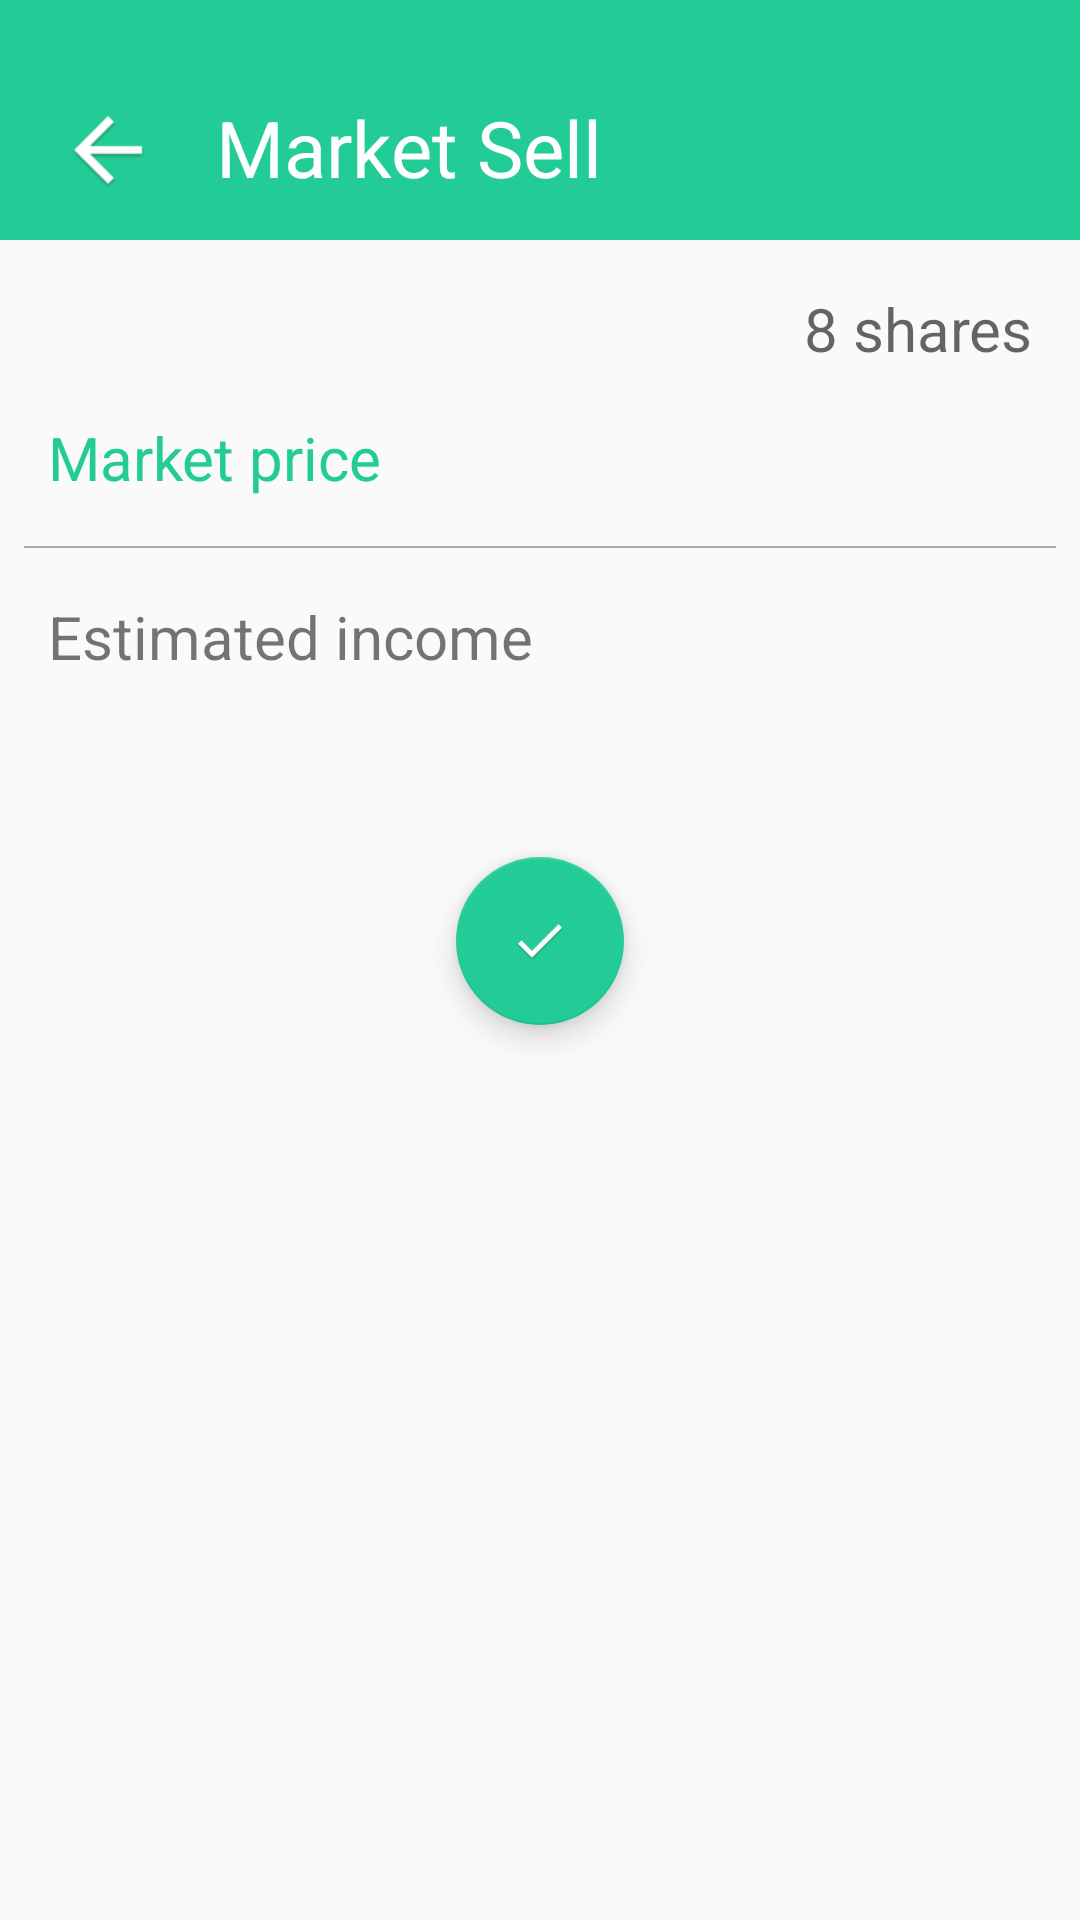

Screen size 1080×1920. Icon name, then its box in pixels as (x1, y1, x2, y2):
check: (456, 857, 624, 1025)
